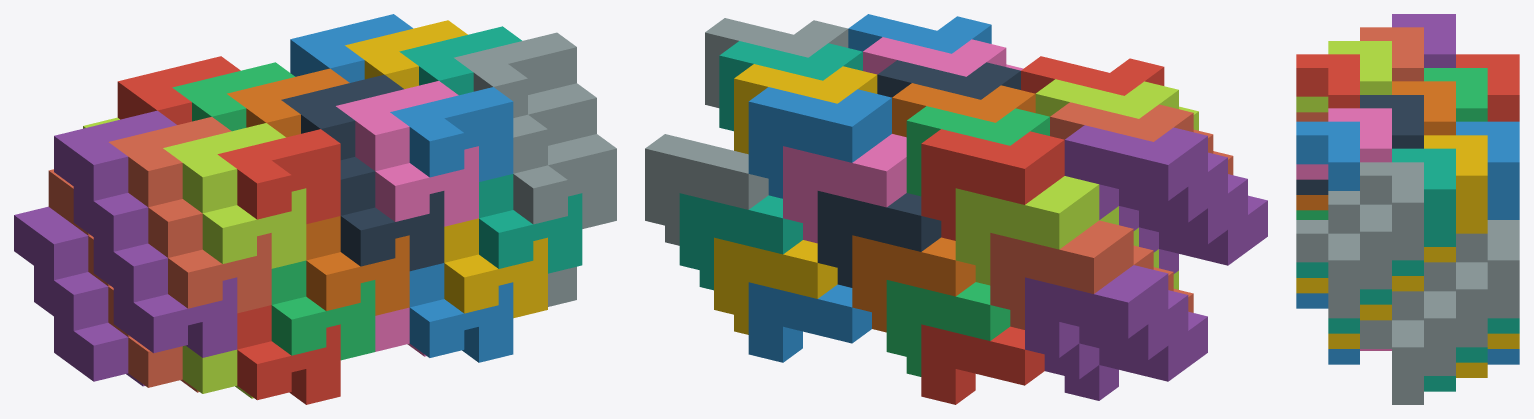
The model's file is tiling.obj.
3 views of the same model, side by side, from view 1: azimuth 30°, elevation 25°; view 2: azimuth 150°, elevation 25°; view 3: azimuth 270°, elevation 25° (orthographic). The views are drawn at different scales.
Visible parts, largest first — view 1: copy_86, copy_85, copy_82, copy_77, copy_58, copy_74, copy_73, copy_41, copy_81, copy_75, copy_83, copy_78 (+33 smaller); view 2: copy_13, copy_14, copy_41, copy_5, copy_11, copy_8, copy_10, copy_12, copy_2, copy_1, copy_9, copy_3 (+20 smaller); view 3: copy_58, copy_10, copy_82, copy_70, copy_14, copy_22, copy_34, copy_43, copy_46, copy_86, copy_28, copy_85 (+28 smaller).
Part boxes in pixels (x1,y1,x2,y2): copy_86: [390, 87, 513, 181]; copy_85: [217, 129, 340, 224]; copy_82: [513, 134, 616, 228]; copy_77: [113, 277, 237, 357]; copy_58: [454, 32, 576, 117]; copy_74: [409, 282, 513, 362]; copy_73: [237, 324, 340, 404]; copy_41: [54, 110, 176, 200]; copy_81: [340, 191, 444, 271]; copy_75: [271, 280, 375, 360]; copy_83: [202, 188, 306, 268]; copy_78: [306, 235, 409, 315]; copy_13: [921, 129, 1064, 224]; copy_14: [748, 87, 891, 181]; copy_41: [1064, 125, 1207, 219]; copy_5: [1025, 265, 1168, 357]; copy_11: [955, 176, 1099, 268]; copy_8: [990, 220, 1133, 313]; copy_10: [645, 134, 768, 228]; copy_12: [783, 134, 906, 226]; copy_2: [748, 282, 871, 362]; copy_1: [921, 324, 1044, 404]; copy_9: [817, 191, 941, 270]; copy_3: [886, 280, 1010, 360]; copy_58: [1360, 162, 1423, 260]; copy_10: [1456, 220, 1519, 318]; copy_82: [1296, 220, 1359, 318]; copy_70: [1328, 191, 1391, 289]; copy_14: [1456, 121, 1519, 219]; copy_22: [1424, 262, 1487, 347]; copy_34: [1392, 291, 1455, 375]; copy_43: [1392, 148, 1455, 246]; copy_46: [1360, 320, 1423, 404]; copy_86: [1296, 121, 1359, 190]; copy_28: [1424, 135, 1487, 233]; copy_85: [1296, 54, 1359, 108].
Size of the model in its own units: 14 by 7 by 7.
